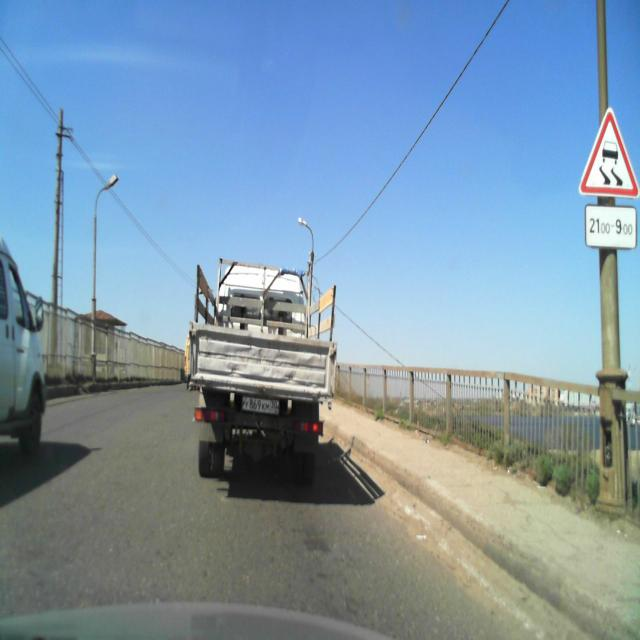road sign: (579, 107, 640, 193), (586, 207, 637, 249)
